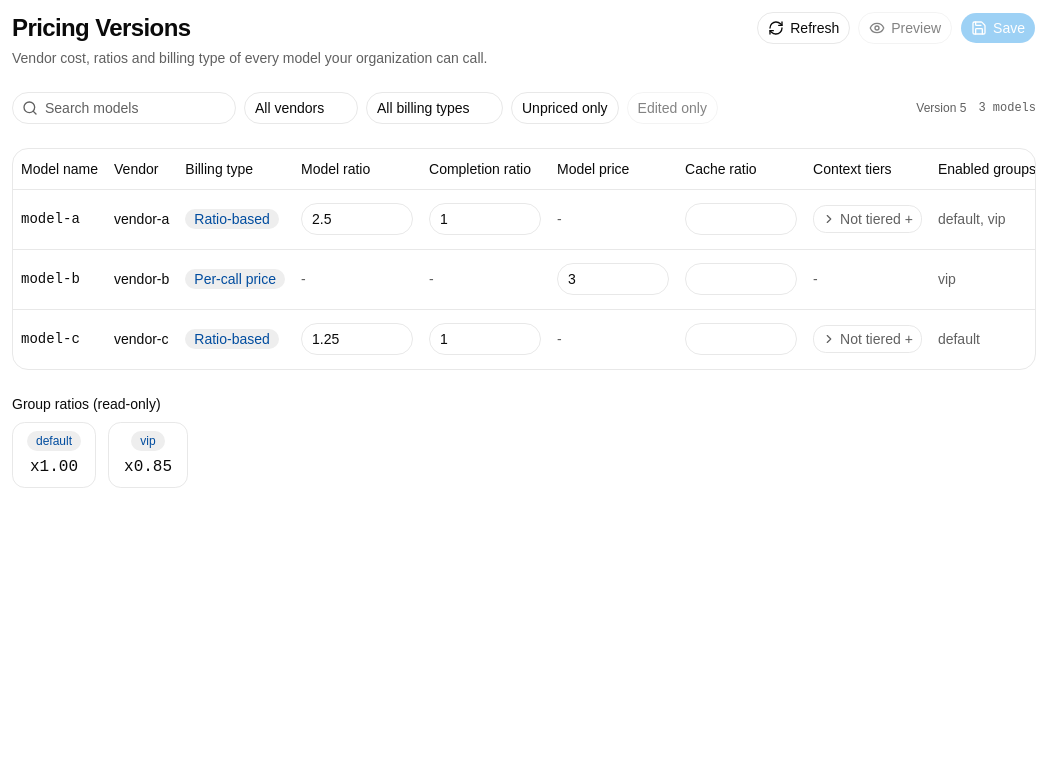
Scenario: editing and saving › saves the changed rows with the version it read, then re-reads
Check: the table with test id "pricing-table" shows "model-a", box top-left (21, 211), bottom-right (80, 227)
Replace the text in the number field with test id "field-model_ratio-model-a" with "3.0" at (357, 219), box top-left (301, 203), bottom-right (413, 235)
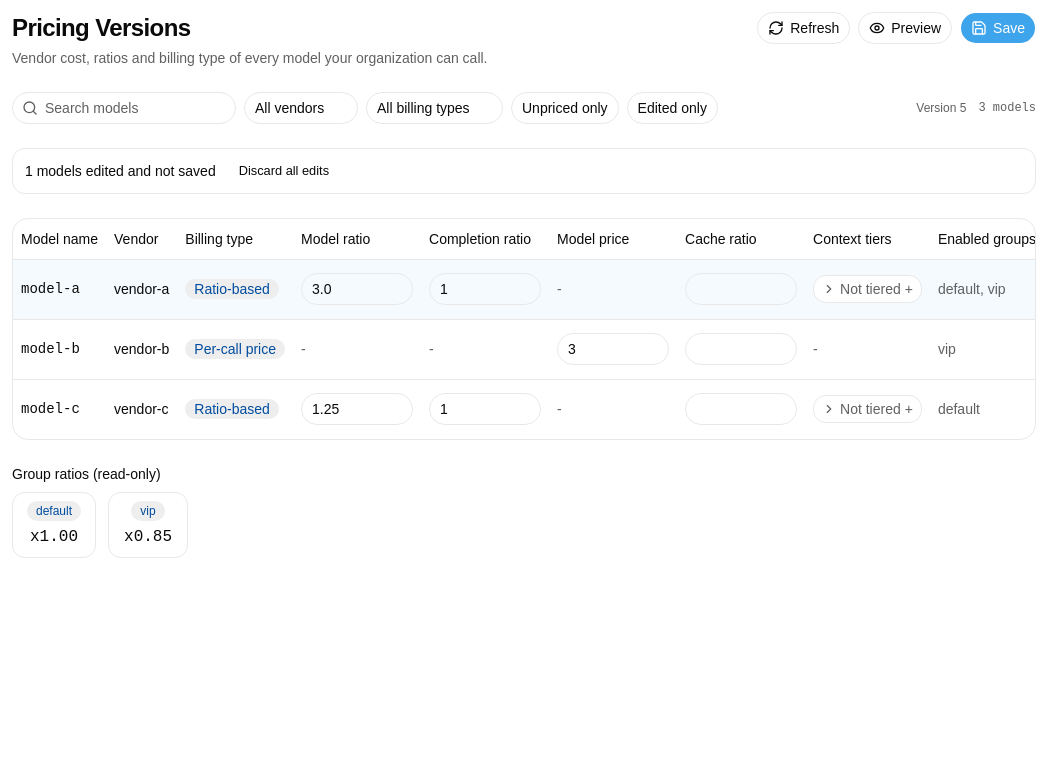
Click the button with test id "pricing-save" at (998, 28), box top-left (960, 12), bottom-right (1036, 44)
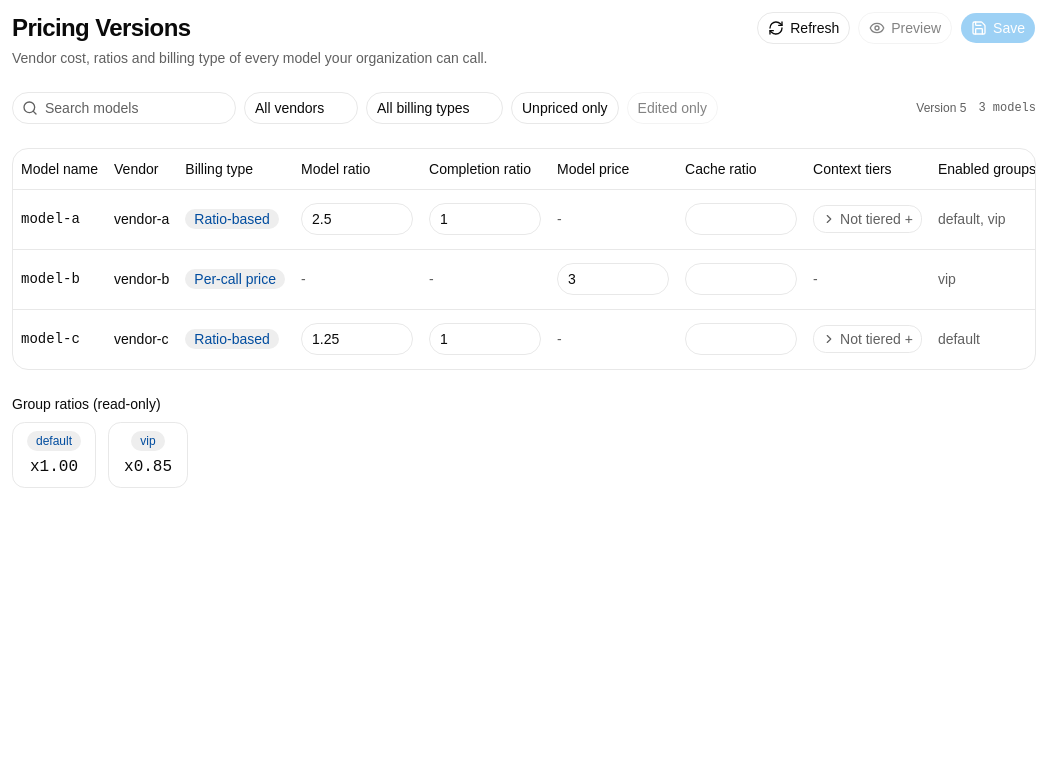
Check: the button with test id "pricing-save" is disabled, box top-left (960, 12), bottom-right (1036, 44)
Check: the element with test id "pricing-dirty-bar" is gone
